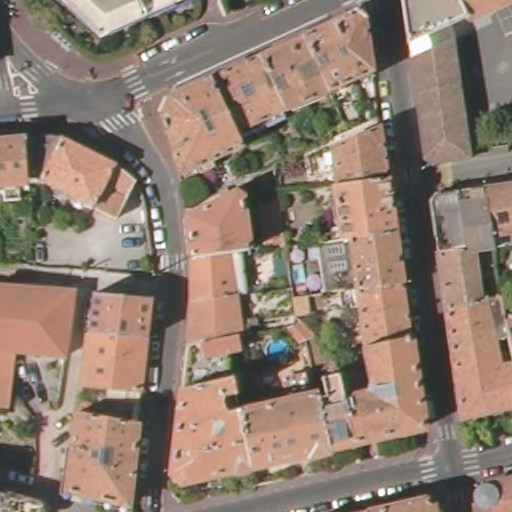pool: (261, 339, 291, 364), (288, 262, 311, 286)
